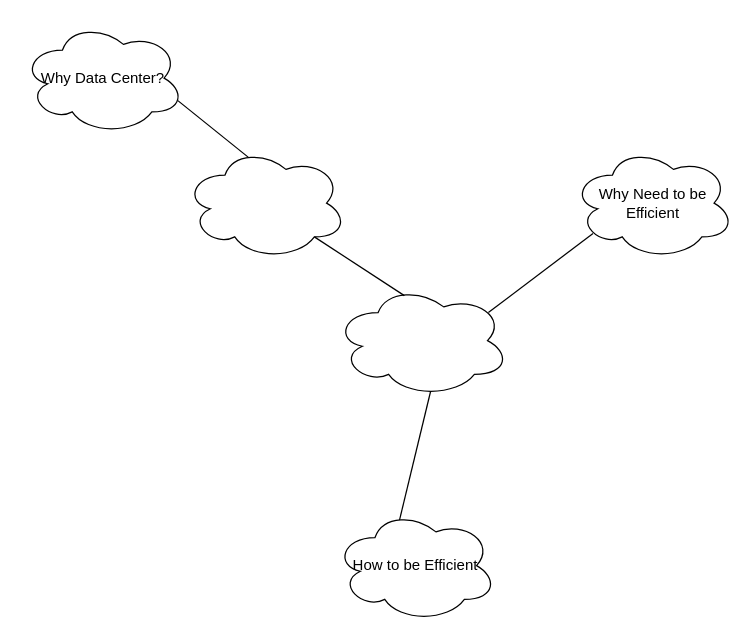
Some shapes in this 756 by 644 pixel diagram are drawn without their labels. The shapes that lost their labels are listed below. From the top down, each one's centre as x and y in pixels, then its label:
the point at 265,202: What is Data Center
the point at 421,340: Efficiency in Data Center
